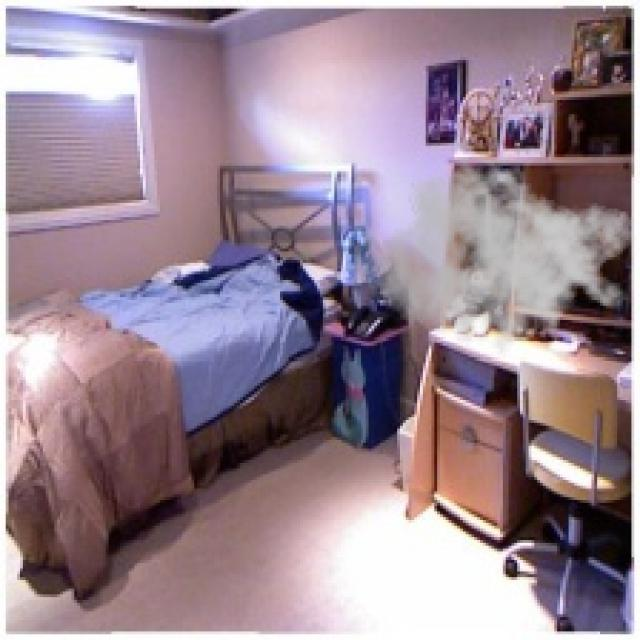Smoke: (374, 152, 637, 366)
